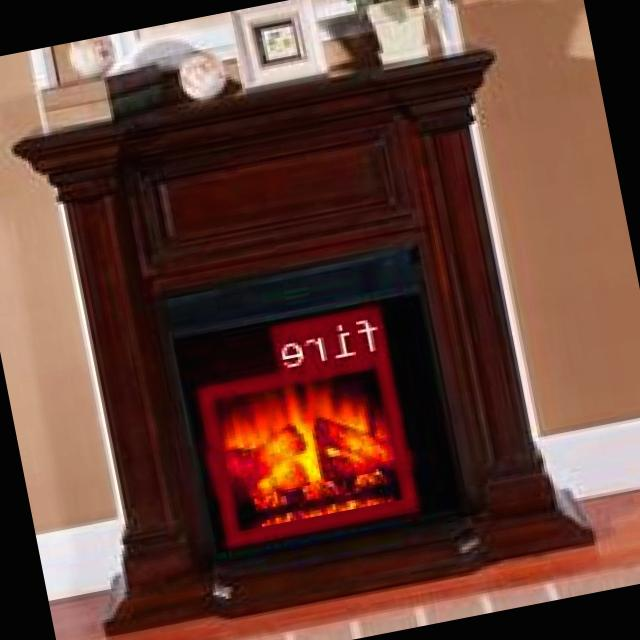fire: (202, 348, 420, 544)
